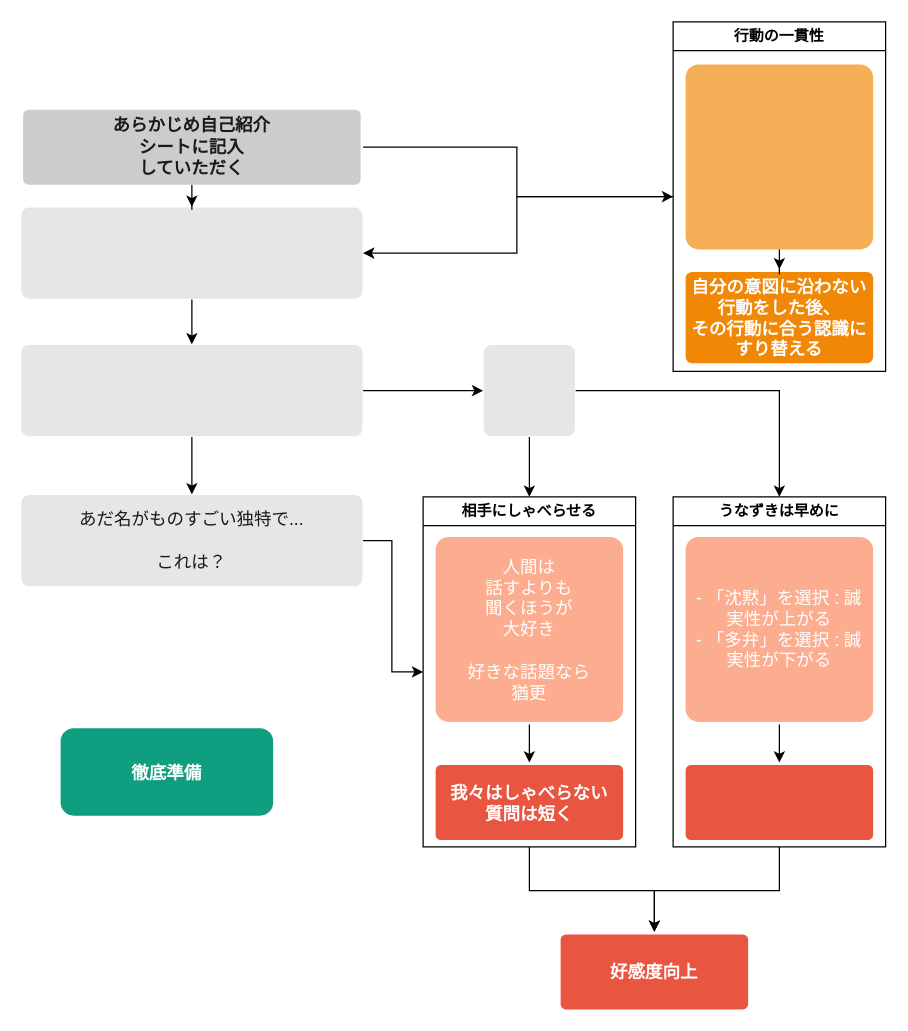
This 908x1031 diagram has some shape labels left out. Here are the shapes that lost their labels. From the top down, the box of each, then its label:
(685, 64, 872, 249): （記入したくもない） 「自己紹介シートに わざわざ時間をかけて 記入したのは わたしがこの人たちと仲良くしたいからだ」
(21, 207, 362, 298): 「西さん」「藤原さん」雑談の自己紹介の件ありがとうございました！
(21, 344, 362, 436): お二方が 想定よりアニメとか映画の話が出来そうで安心しましたw
(483, 344, 574, 436): 呪術回線
(685, 764, 872, 839): 多弁
